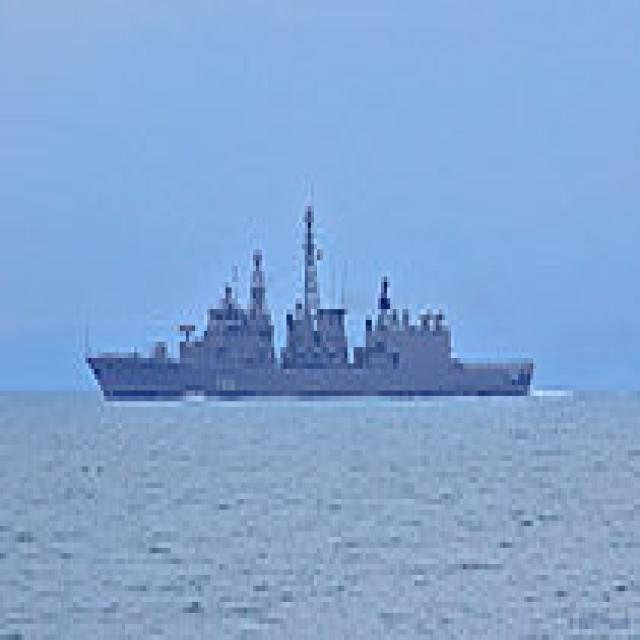Warship: (198, 179, 533, 401), (73, 239, 314, 396)
